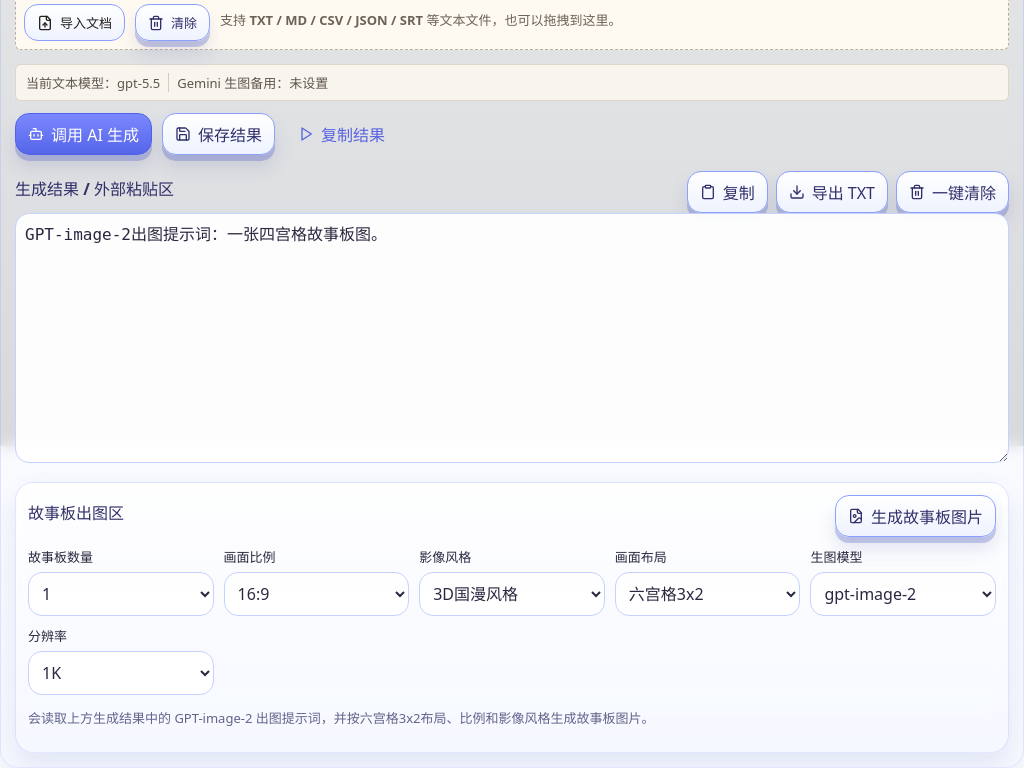
Workspace storyboard controls › shows a clear message when storyboard image generation returns no image reference
The image size is (1024, 768).
(page scrolled)
Click the button "生成故事板图片" at (916, 516), box [835, 495, 996, 537]
(page scrolled)
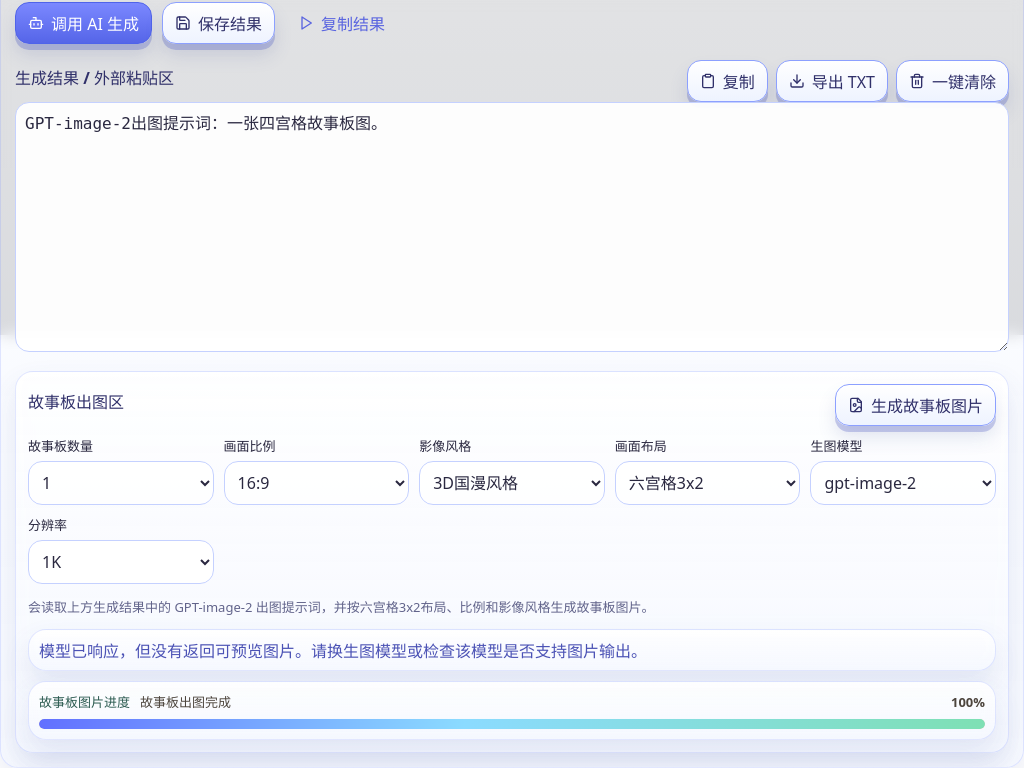
Expected: the text "模型已响应，但没有返回可预览图片。请换生图模型或检查该模型是否支持图片输出。" is shown, [28, 629, 996, 671]
